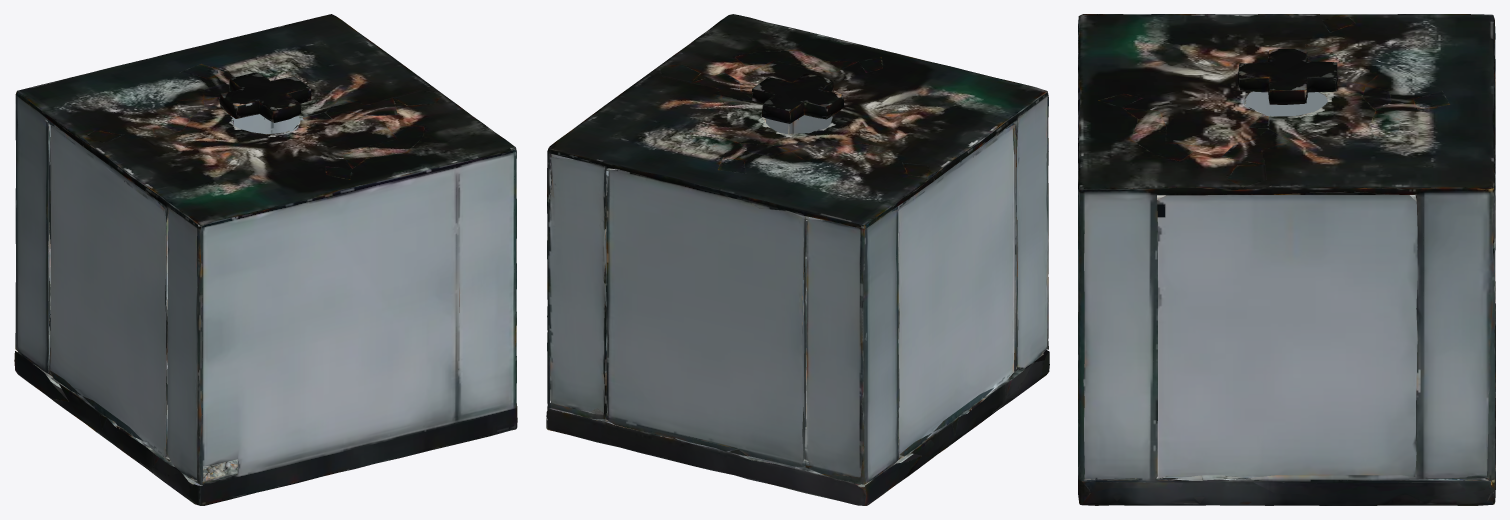
The model's file is gen_09f860ad.glb.
3 renders of one model, left to right at view 1: azimuth 30°, elevation 25°; view 2: azimuth 150°, elevation 25°; view 3: azimuth 270°, elevation 25°, orthographic. The views are drawn at different scales.
Parts seen in each view (by area): view 1: geometry_0; view 2: geometry_0; view 3: geometry_0.
Boxes of the visible parts, x1=… form: geometry_0: x1=14, y1=14, x2=517, y2=505; geometry_0: x1=546, y1=14, x2=1049, y2=505; geometry_0: x1=1078, y1=14, x2=1495, y2=505.
Bounding box in the file's own units: 0.4094 × 0.3782 × 0.41.
Materials: 1 (1 with a texture image).
